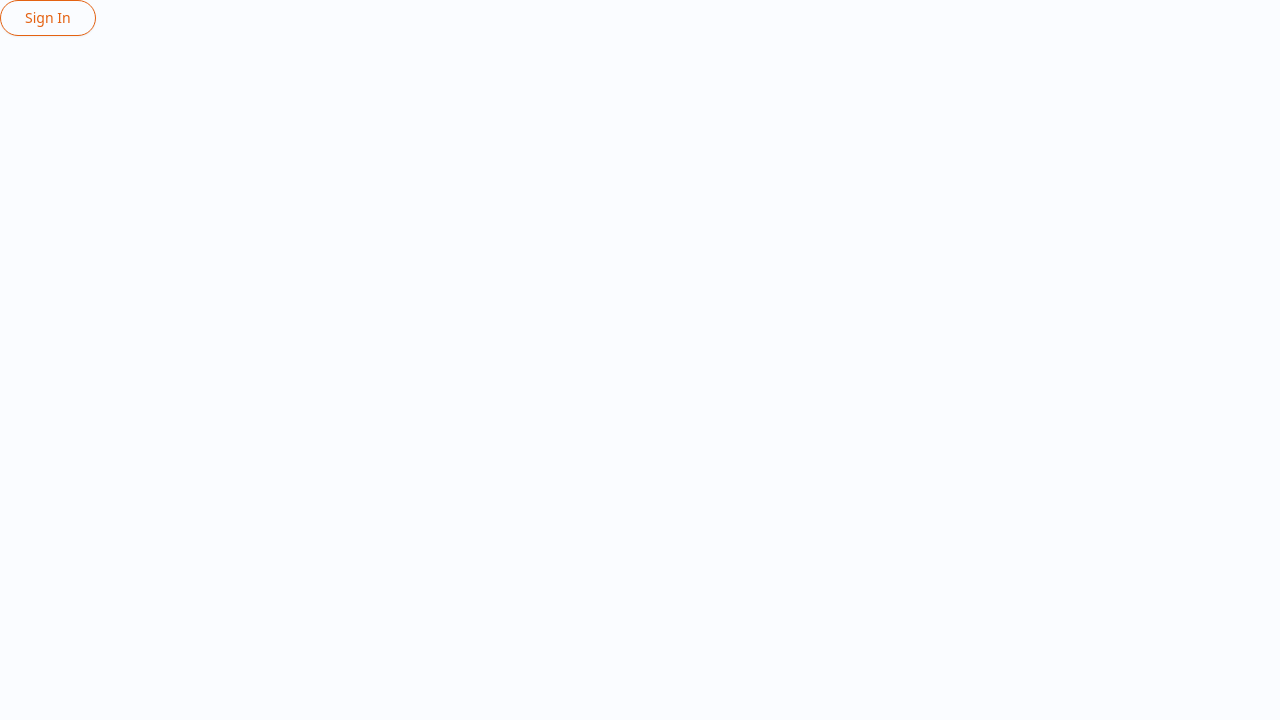
it: AuthDialog › opens the dialog when the sign in button is clicked
Click the button "Sign In": click(48, 18) [0,0,96,36]
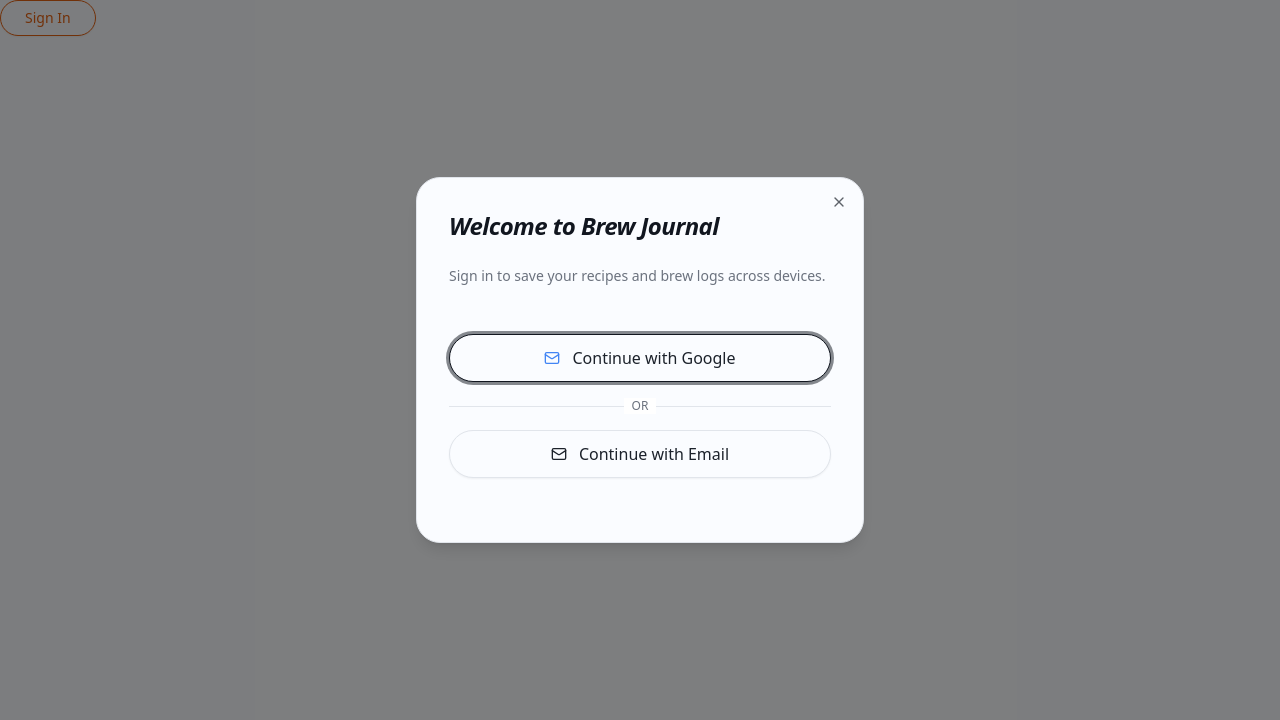
Now the dialog is shown, box [416,177,864,543]
Now the heading "Welcome to Brew Journal" is shown, box [449,209,719,242]
